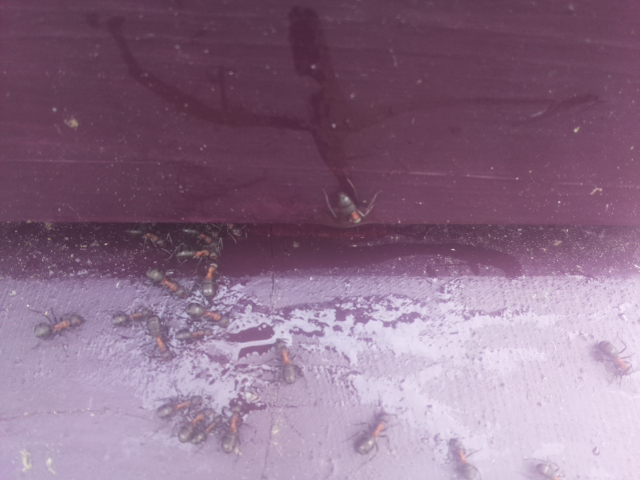ant: (26, 304, 90, 350), (349, 404, 393, 462), (136, 262, 193, 303), (328, 182, 370, 233), (141, 311, 177, 367), (171, 410, 223, 447), (272, 334, 305, 392), (218, 398, 247, 460), (595, 334, 632, 380), (156, 392, 210, 423), (178, 298, 231, 327), (446, 433, 477, 480), (110, 302, 153, 331), (200, 255, 222, 298), (176, 324, 214, 345), (169, 247, 217, 261)
